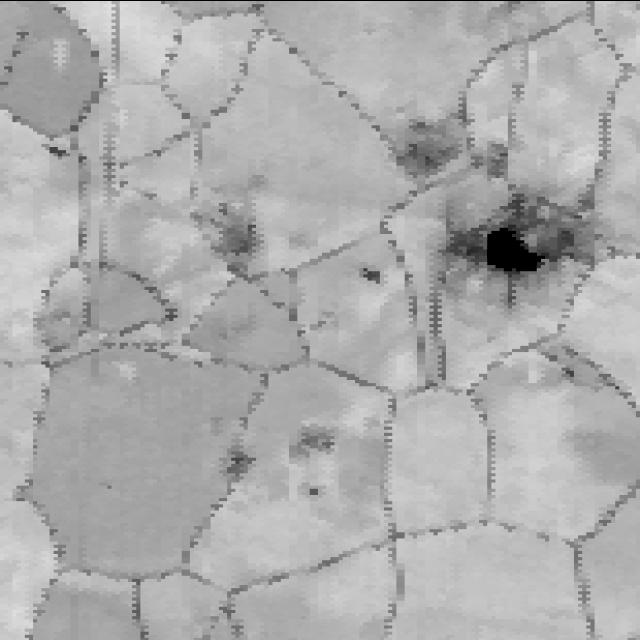good_void: (465, 214, 556, 305), (197, 200, 271, 264), (383, 121, 459, 181), (287, 413, 352, 464), (467, 0, 548, 40), (538, 346, 590, 389), (212, 441, 255, 484), (465, 140, 509, 179), (37, 139, 76, 164), (299, 313, 337, 338), (359, 261, 387, 288), (297, 483, 325, 505), (139, 184, 160, 202), (117, 177, 129, 189)
